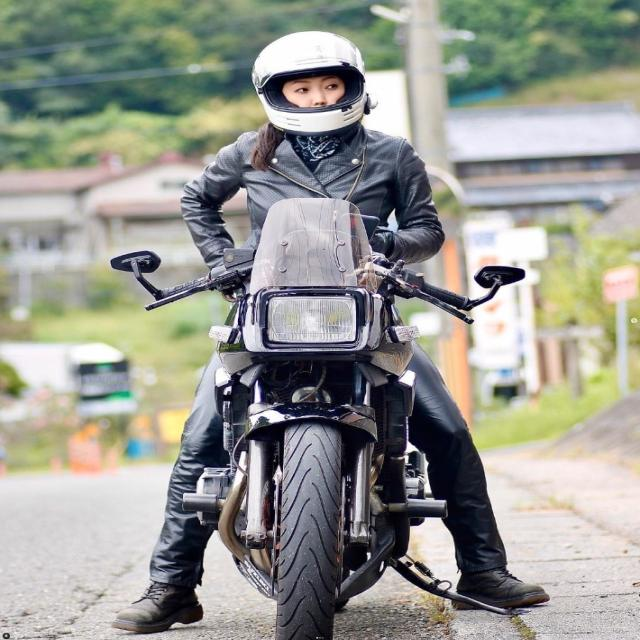helmet: (246, 26, 374, 141)
